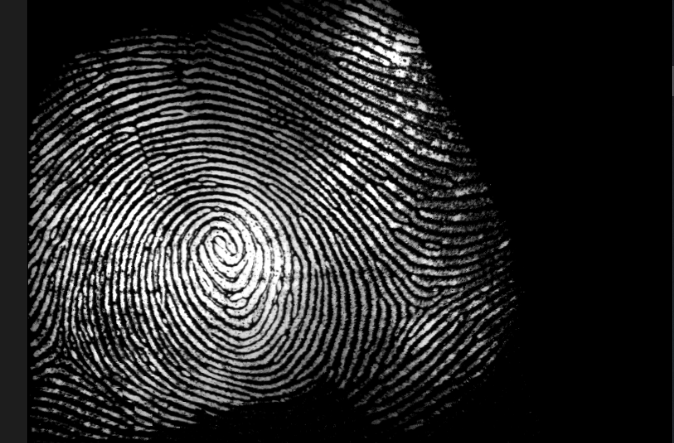deltas: (379, 272, 447, 341), (33, 310, 95, 379)
nucleo: (179, 207, 262, 277)
